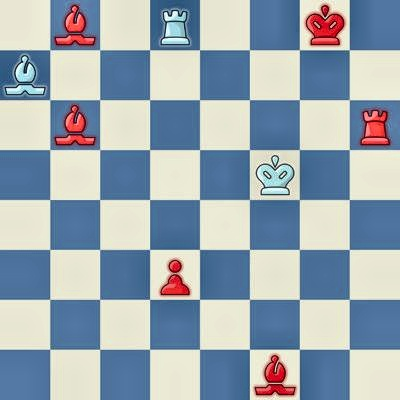black-bishop: (50, 0, 100, 50), (50, 100, 100, 150), (250, 350, 300, 400)
black-king: (300, 0, 350, 50)
black-pawn: (150, 250, 200, 300)
black-rook: (350, 100, 400, 150)
white-bishop: (0, 50, 50, 100)
white-king: (250, 150, 300, 200)
white-rook: (150, 0, 200, 50)
